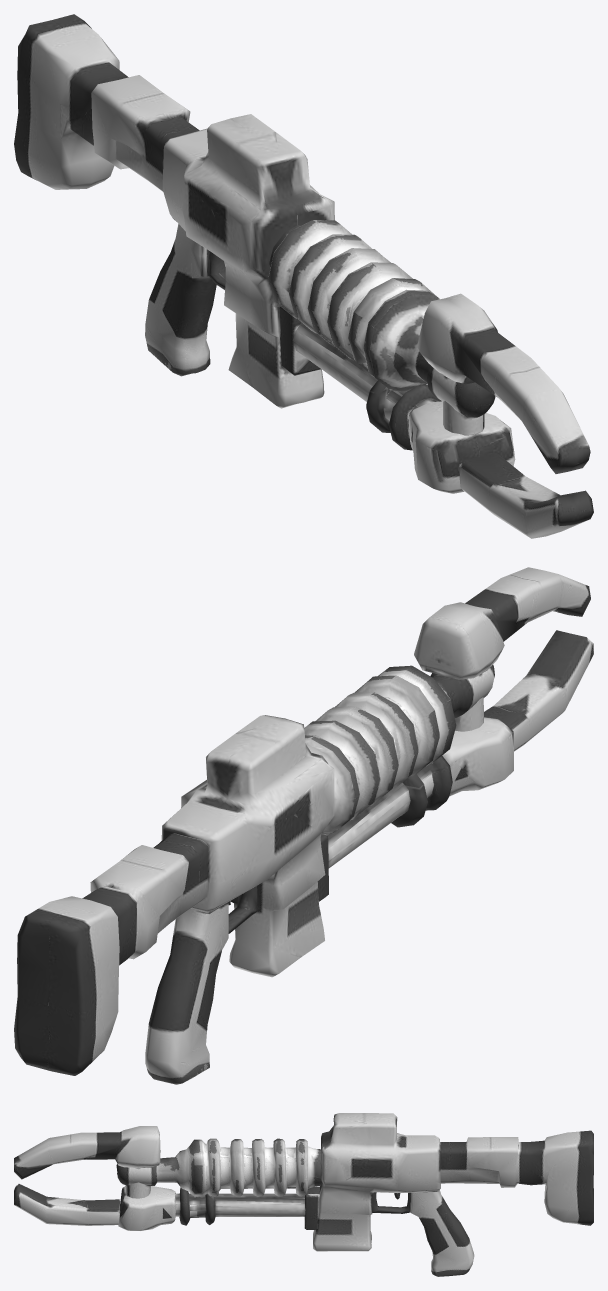
Rendered from nyra_gun.glb.
3 views of the same model, one above another, from view 1: azimuth 30°, elevation 25°; view 2: azimuth 150°, elevation 25°; view 3: azimuth 270°, elevation 25° (orthographic). The views are drawn at different scales.
Bounding box in the file's own units: 0.0788 × 0.2371 × 0.8.
1 material, 1 textured.
